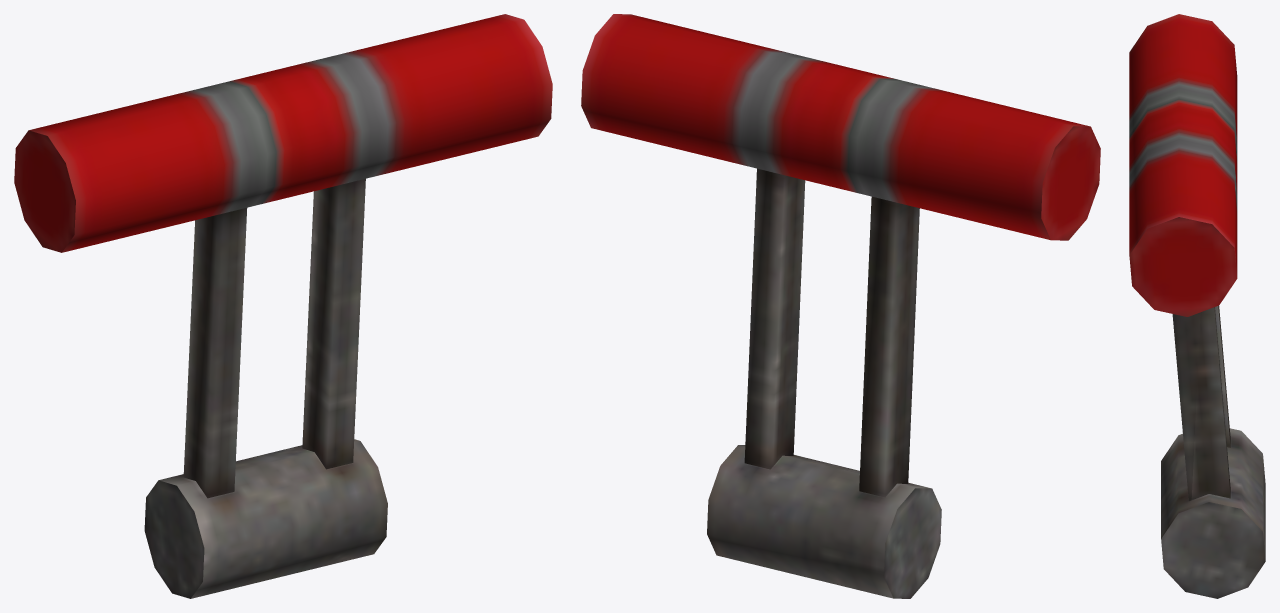
The model's file is substation_airlock_lever.dae.
3 renders of one model, left to right at view 1: azimuth 30°, elevation 25°; view 2: azimuth 150°, elevation 25°; view 3: azimuth 270°, elevation 25°, orthographic. The views are drawn at different scales.
Parts seen in each view (by area): view 1: handle; view 2: handle; view 3: handle.
Boxes of the visible parts, x1,y1,x2,y2 form: handle: [14, 14, 552, 598]; handle: [581, 14, 1100, 598]; handle: [1129, 14, 1265, 598].
Size of the model in its own units: 0.3137 by 0.3203 by 0.089.
